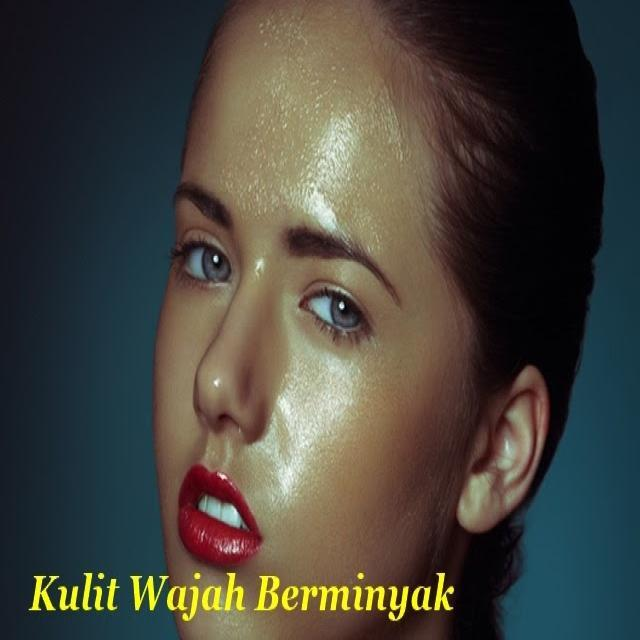oily: (202, 28, 406, 238), (262, 330, 351, 520), (252, 249, 268, 282)
